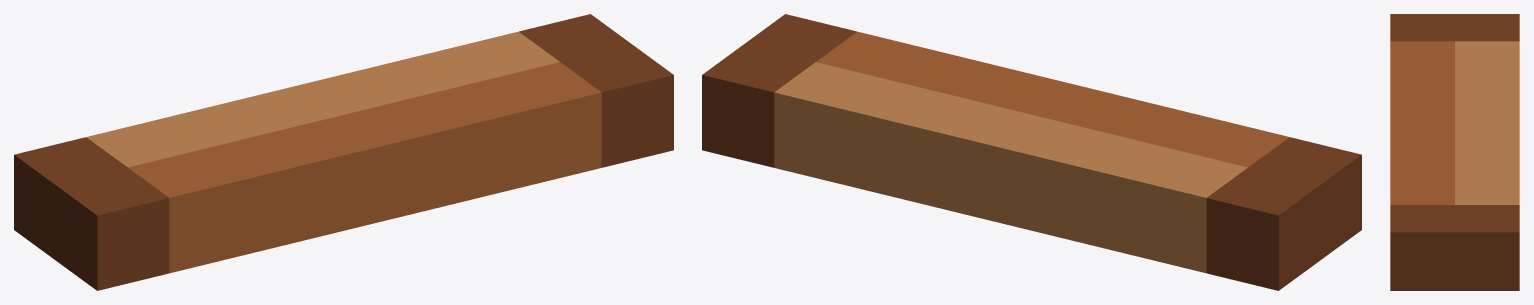
The model's file is basic_smelter_bar.glb.
3 renders of one model, left to right at view 1: azimuth 30°, elevation 25°; view 2: azimuth 150°, elevation 25°; view 3: azimuth 270°, elevation 25°, orthographic. The views are drawn at different scales.
Visible parts, largest first — view 1: VoxelVisual__bar; view 2: VoxelVisual__bar; view 3: VoxelVisual__bar.
Part boxes in pixels (box(x1,y1,x2,y2)): VoxelVisual__bar: box(14, 14, 673, 290); VoxelVisual__bar: box(702, 14, 1361, 290); VoxelVisual__bar: box(1390, 14, 1519, 290).
Size of what is drawn, in the model's own units: 0.5 by 0.0625 by 0.125.
